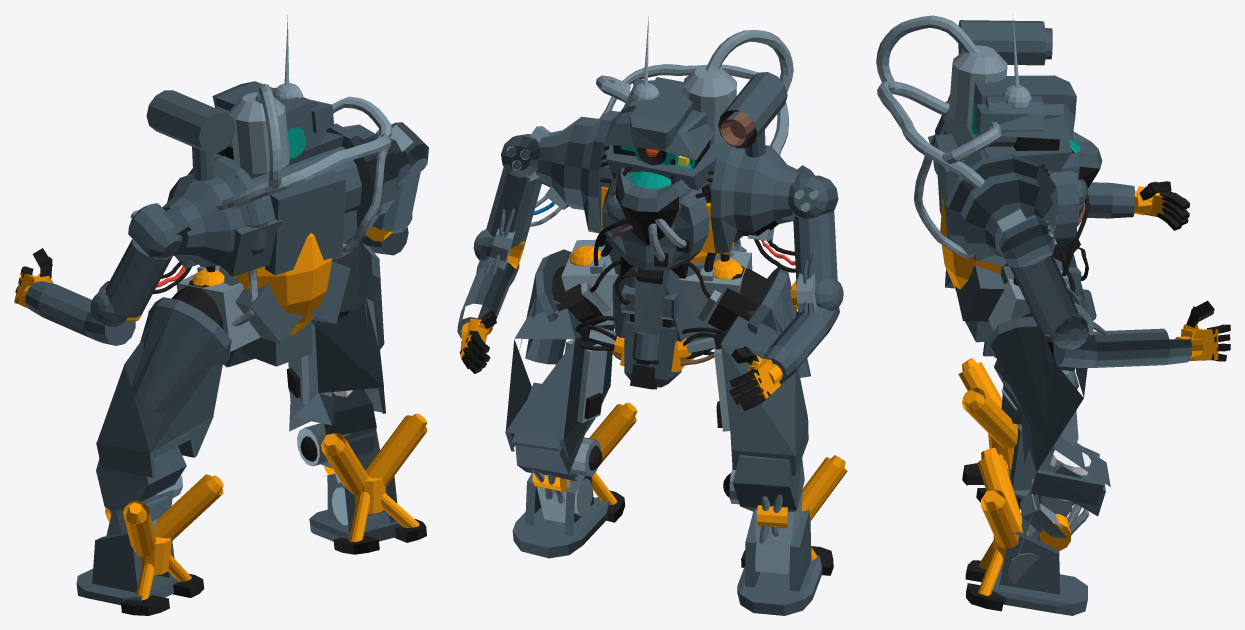
Rendered from Robot-transformed.glb.
3 renders of one model, left to right at view 1: azimuth 30°, elevation 25°; view 2: azimuth 150°, elevation 25°; view 3: azimuth 270°, elevation 25°, orthographic. The views are drawn at different scales.
Parts seen in each view (by area): view 1: group1093835587, group346538596, group140126695, group977054201; view 2: group1093835587, group346538596, group977054201, group140126695, group221446973, group1540490610; view 3: group1093835587, group346538596, group140126695, group977054201, group572601098.
Part boxes in pixels (bbox=[...]): group1093835587: bbox=[25, 81, 428, 604]; group346538596: bbox=[98, 15, 414, 535]; group140126695: bbox=[14, 225, 427, 600]; group977054201: bbox=[15, 146, 426, 615]; group1093835587: bbox=[457, 72, 843, 615]; group346538596: bbox=[487, 17, 819, 573]; group977054201: bbox=[459, 110, 833, 575]; group140126695: bbox=[460, 187, 847, 560]; group221446973: bbox=[590, 112, 754, 365]; group1540490610: bbox=[621, 146, 694, 188]; group1093835587: bbox=[928, 20, 1192, 615]; group346538596: bbox=[876, 14, 1093, 583]; group140126695: bbox=[940, 186, 1218, 595]; group977054201: bbox=[962, 137, 1230, 611]; group572601098: bbox=[1050, 450, 1091, 500].
Size of the model in its own units: 0.9138 by 1.38 by 0.7987.
